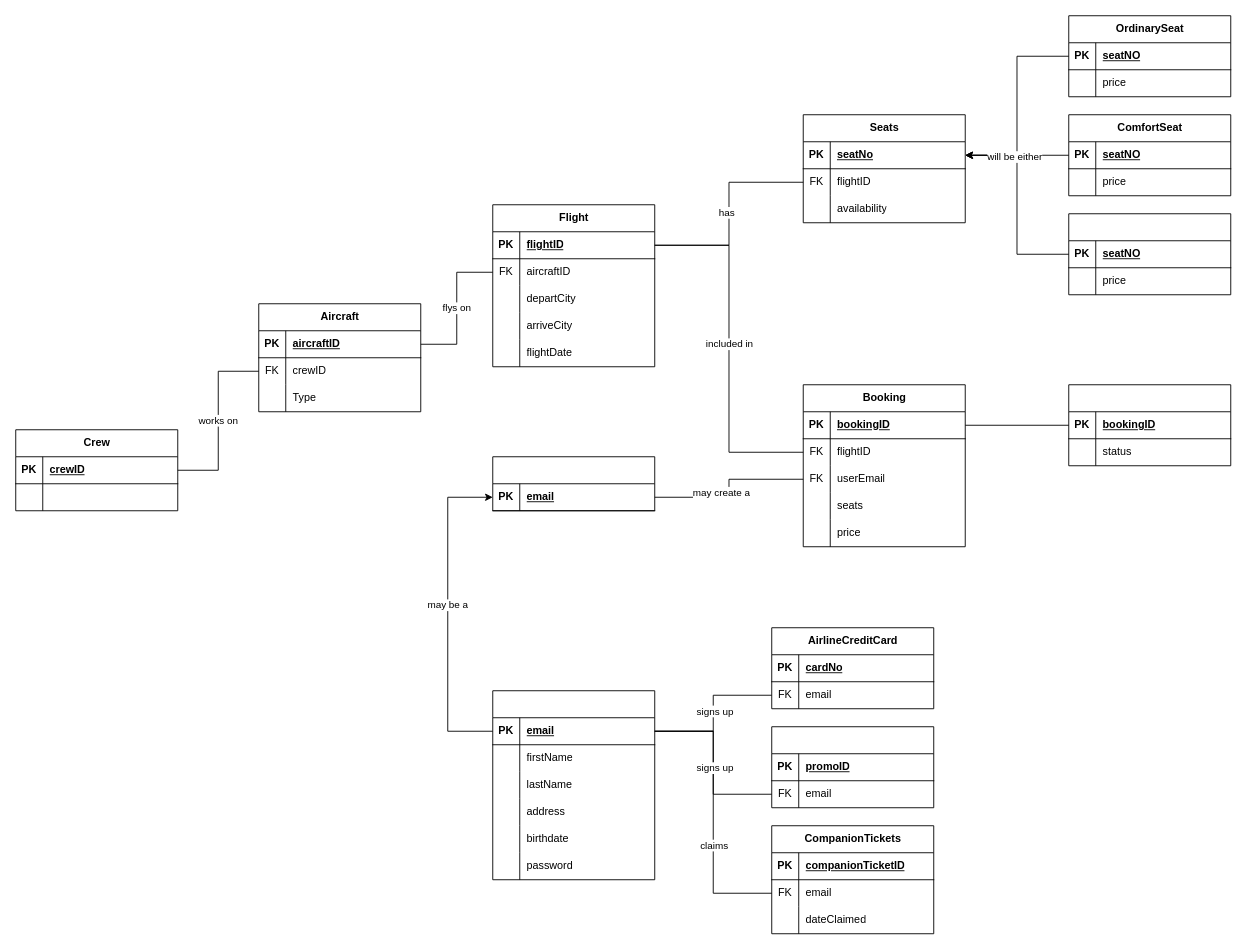
This 1247x950 diagram has some shape labels left out. The box of each missing label's shape, as (x1, y1, x2, y2) in pixels:
BusinessSeat: (1068, 213, 1231, 295)
Payment: (1068, 384, 1231, 466)
Promotions: (771, 726, 934, 808)
Registered User: (492, 690, 655, 880)
User: (492, 456, 655, 511)
